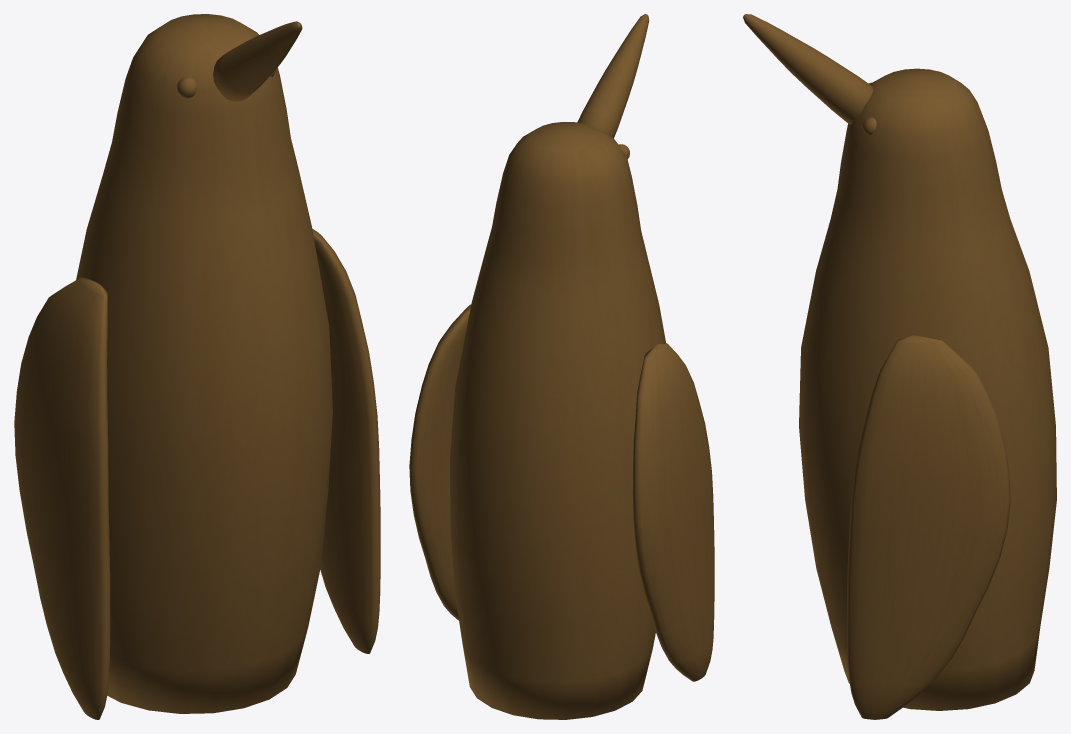
Rendered from pengin.fbx.
3 renders of one model, left to right at view 1: azimuth 30°, elevation 25°; view 2: azimuth 150°, elevation 25°; view 3: azimuth 270°, elevation 25°, orthographic. The views are drawn at different scales.
Parts seen in each view (by area): view 1: pengin; view 2: pengin; view 3: pengin.
Boxes of the visible parts, left/top/right/bottom form: pengin: left=14, top=14, right=380, bottom=719; pengin: left=409, top=14, right=714, bottom=719; pengin: left=743, top=14, right=1056, bottom=719.
Size of the model in its own units: 34.82 by 79.43 by 34.42.
1 material, 1 textured.
